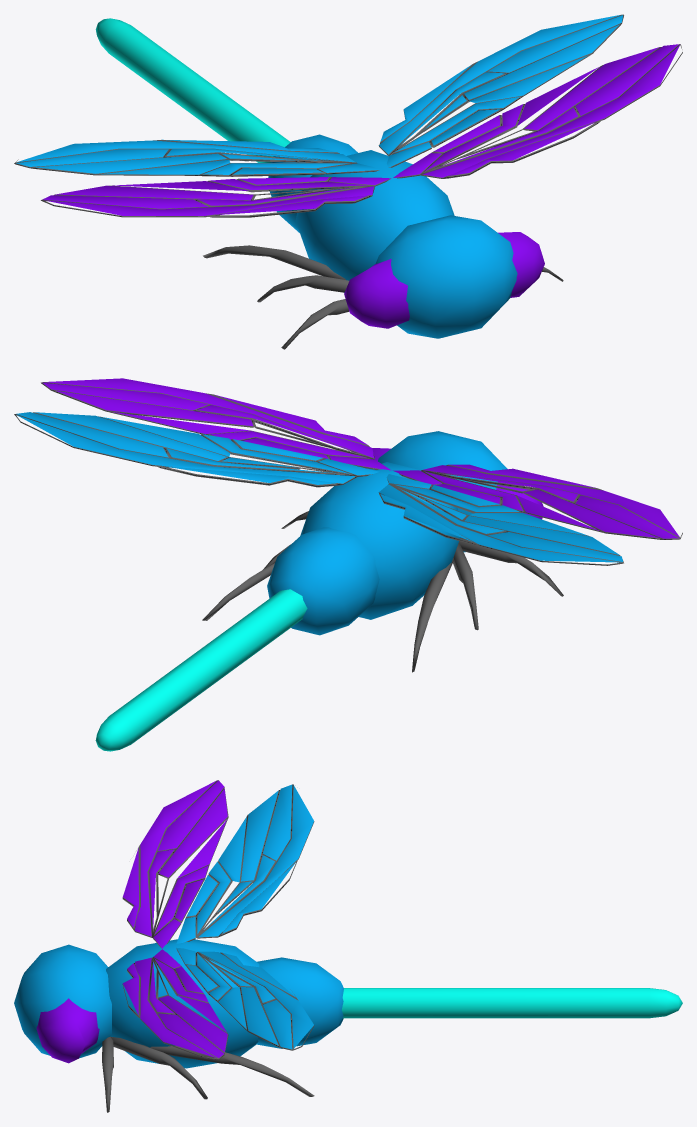
The model's file is animals-dragonfly-078.glb.
3 renders of one model, top to bottom at view 1: azimuth 30°, elevation 25°; view 2: azimuth 150°, elevation 25°; view 3: azimuth 270°, elevation 25°, orthographic. The views are drawn at different scales.
Visible parts, largest first — view 1: Symmetry.1; view 2: Symmetry.1; view 3: Symmetry.1.
Part boxes in pixels (x1=…): Symmetry.1: x1=14, y1=14, x2=682, y2=349; Symmetry.1: x1=14, y1=378, x2=682, y2=751; Symmetry.1: x1=14, y1=780, x2=682, y2=1112.
Bounding box in the file's own units: 281 × 68.47 × 285.
